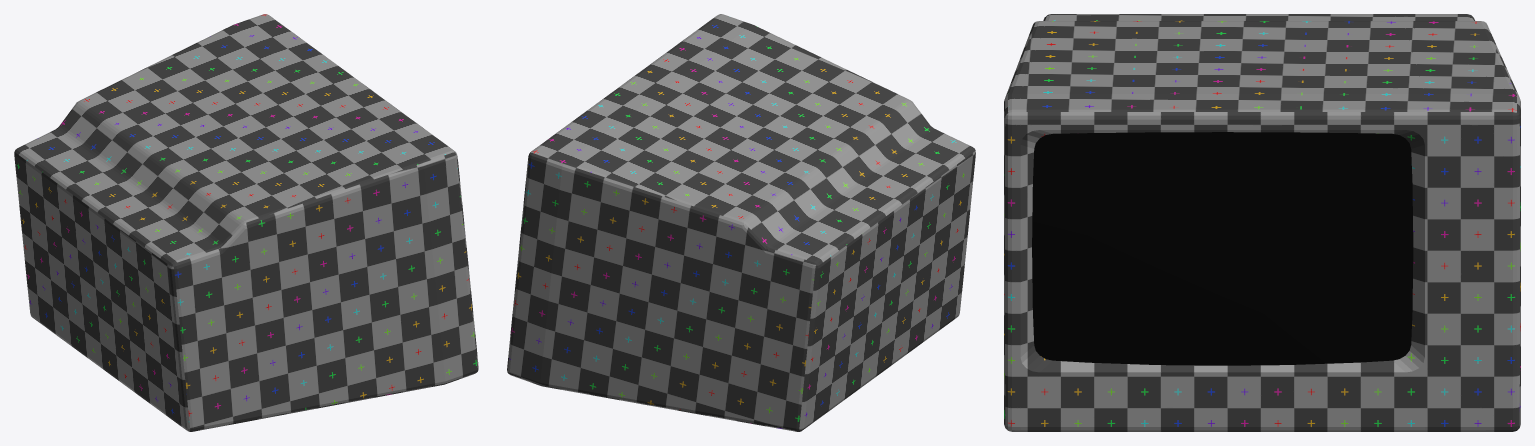
Rendered from 1994 CRT.glb.
3 renders of one model, left to right at view 1: azimuth 30°, elevation 25°; view 2: azimuth 150°, elevation 25°; view 3: azimuth 270°, elevation 25°, orthographic. The views are drawn at different scales.
Parts seen in each view (by area): view 1: CRT Simplified; view 2: CRT Simplified; view 3: CRT Simplified, CRT screen.
Part boxes in pixels (<box>): CRT Simplified: <box>14,14,478,431</box>; CRT Simplified: <box>507,14,975,431</box>; CRT Simplified: <box>1004,14,1520,431</box>; CRT screen: <box>1032,132,1413,365</box>.
Size of the model in its own units: 1.66 by 1.25 by 1.87.
Materials: 2 (1 with a texture image).
